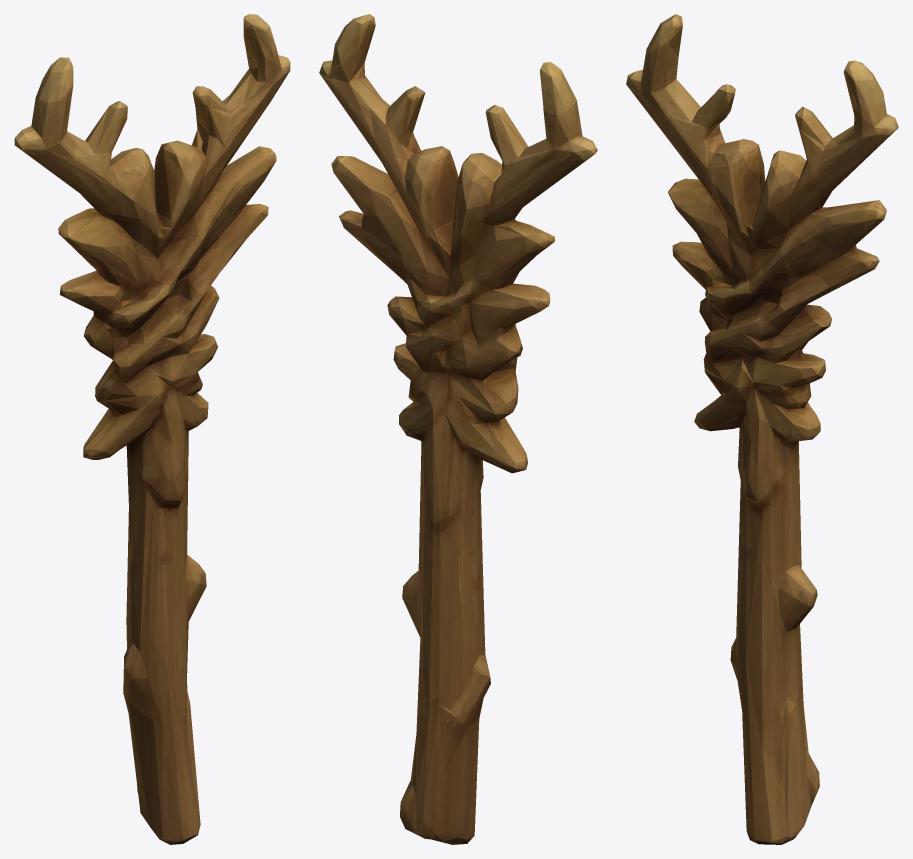
Rendered from hiking_stick.glb.
3 views of the same model, side by side, from view 1: azimuth 30°, elevation 25°; view 2: azimuth 150°, elevation 25°; view 3: azimuth 330°, elevation 25° (orthographic). The views are drawn at different scales.
Visible parts, largest first — view 1: geometry_0; view 2: geometry_0; view 3: geometry_0.
Part boxes in pixels (x1,y1,x2,y2): geometry_0: (14,14,290,844); geometry_0: (319,14,597,844); geometry_0: (626,14,898,844).
Bounding box in the file's own units: 0.2863 × 0.8 × 0.0746.
1 material, 1 textured.
